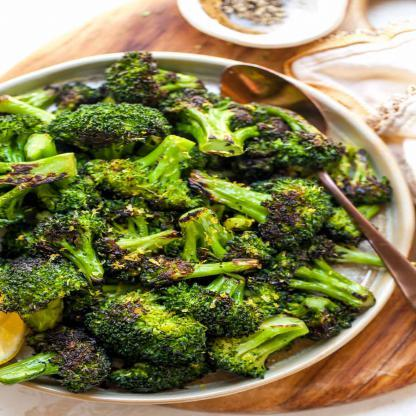broccoli: (0, 51, 407, 394)
